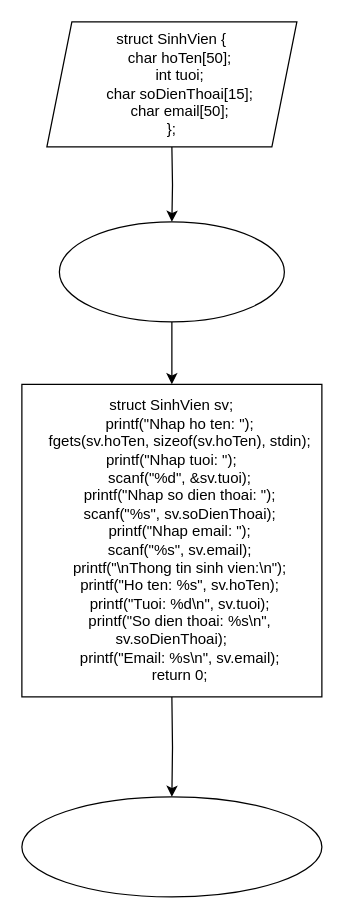
Some shapes in this 344 by 919 pixel diagram are drawn without their labels. The shapes that lost their labels are listed below. From the top down, each one's centre as x and y in pixels, then its label:
the point at 171,271: start
the point at 171,846: end
